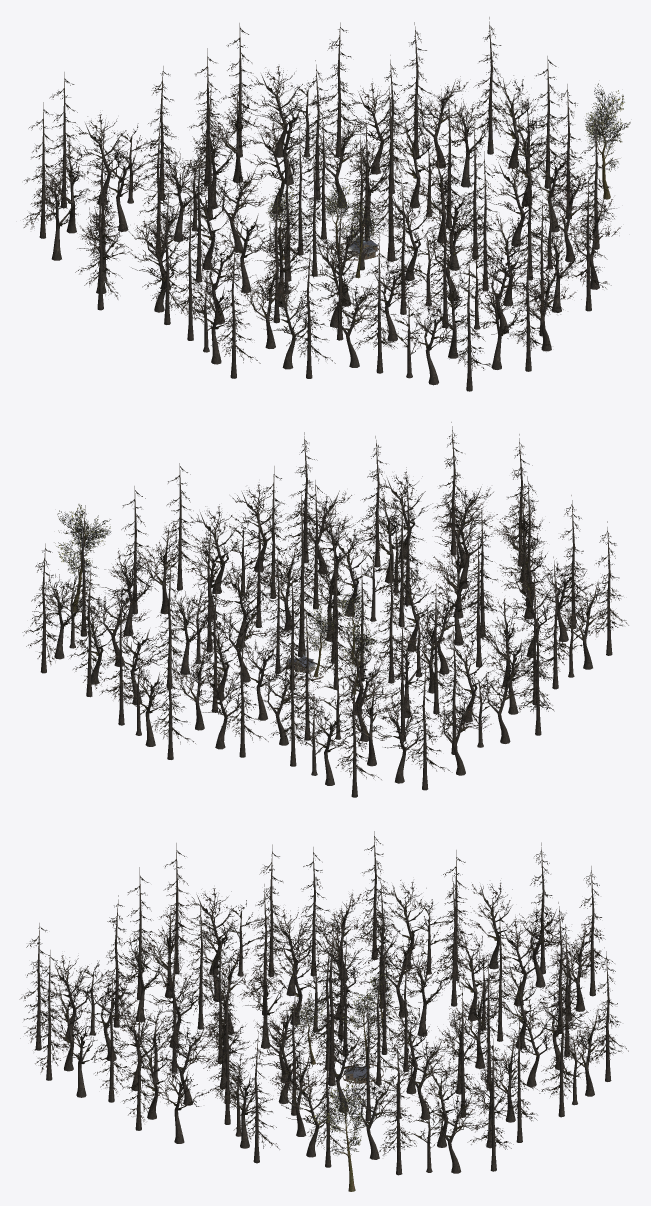
The model's file is horror_world.glb.
3 views of the same model, one above another, from view 1: azimuth 30°, elevation 25°; view 2: azimuth 150°, elevation 25°; view 3: azimuth 270°, elevation 25° (orthographic). The views are drawn at different scales.
Parts seen in each view (by area): view 1: Arbol.098_99, Arbol.102_103, Arbol.092_93, Arbol.087_88, Arbol.014_15, Arbol.072_73, Arbol.096_97, Arbol.086_87, Arbol.085_86, Arbol.089_90, Arbol.045_46, Arbol.073_74 (+90 smaller); view 2: Arbol.098_99, Arbol.102_103, Arbol.055_56, Arbol.048_49, Arbol.049_50, Arbol.084_85, Arbol.078_79, Arbol.029_30, Arbol.079_80, Arbol.053_54, Arbol.056_57, Arbol.068_69 (+89 smaller); view 3: Arbol.098_99, Arbol.102_103, Arbol.044_45, Arbol.023_24, Arbol.096_97, Arbol.042_43, Arbol.052_53, Arbol.050_51, Arbol.031_32, Arbol.055_56, Arbol.025_26, Arbol.024_25 (+87 smaller).
Boxes of the visible parts, bbox=[...] form: Arbol.098_99: bbox=[585, 83, 630, 199]; Arbol.102_103: bbox=[363, 86, 415, 261]; Arbol.092_93: bbox=[398, 303, 470, 385]; Arbol.087_88: bbox=[237, 254, 298, 348]; Arbol.014_15: bbox=[361, 257, 428, 341]; Arbol.072_73: bbox=[142, 186, 186, 324]; Arbol.096_97: bbox=[507, 234, 550, 371]; Arbol.086_87: bbox=[323, 283, 388, 367]; Arbol.085_86: bbox=[256, 278, 314, 369]; Arbol.089_90: bbox=[211, 241, 260, 378]; Arbol.045_46: bbox=[410, 76, 471, 168]; Arbol.073_74: bbox=[75, 172, 122, 310]; Arbol.098_99: bbox=[54, 504, 111, 611]; Arbol.102_103: bbox=[270, 490, 331, 657]; Arbol.055_56: bbox=[170, 641, 221, 730]; Arbol.048_49: bbox=[67, 564, 107, 697]; Arbol.049_50: bbox=[22, 543, 61, 673]; Arbol.084_85: bbox=[558, 581, 616, 669]; Arbol.078_79: bbox=[434, 692, 491, 775]; Arbol.029_30: bbox=[136, 525, 186, 614]; Arbol.079_80: bbox=[340, 677, 391, 766]; Arbol.053_54: bbox=[190, 662, 249, 749]; Arbol.056_57: bbox=[221, 624, 268, 757]; Arbol.068_69: bbox=[477, 656, 539, 743]; Arbol.098_99: bbox=[309, 1080, 370, 1191]; Arbol.102_103: bbox=[302, 917, 361, 1086]; Arbol.044_45: bbox=[429, 1090, 488, 1173]; Arbol.023_24: bbox=[163, 1024, 222, 1105]; Arbol.096_97: bbox=[29, 950, 68, 1080]; Arbol.042_43: bbox=[377, 1045, 416, 1175]; Arbol.052_53: bbox=[557, 1009, 615, 1096]; Arbol.050_51: bbox=[539, 987, 580, 1117]; Arbol.031_32: bbox=[270, 1049, 326, 1136]; Arbol.055_56: bbox=[502, 997, 556, 1086]; Arbol.025_26: bbox=[94, 973, 130, 1102]; Arbol.024_25: bbox=[121, 1000, 156, 1130].
Size of what is drawn, in the model's own units: 67.08 by 21.08 by 68.96.
15 materials, 15 textured.
